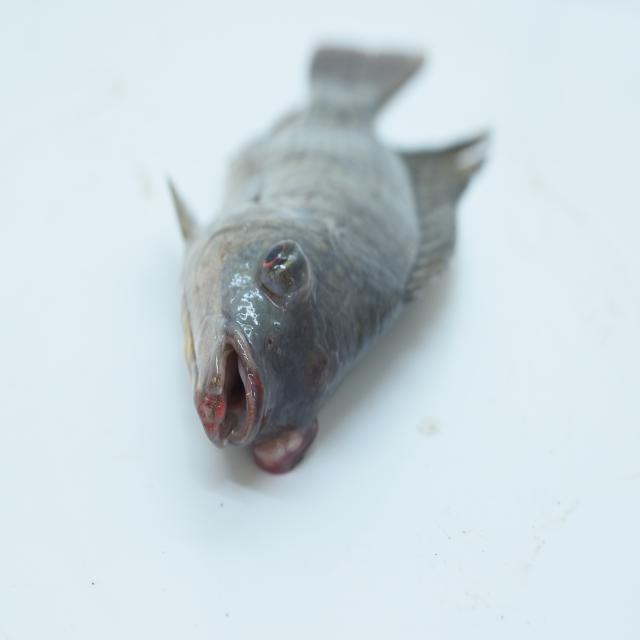Columnaris Disease: (103, 35, 506, 500)
